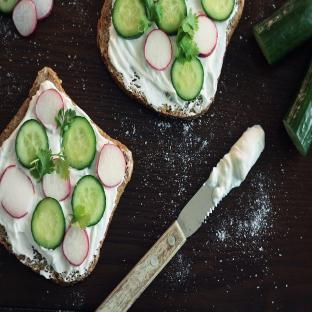Cucumber: (253, 0, 311, 64), (284, 61, 311, 155), (62, 117, 96, 169), (31, 198, 65, 249), (72, 176, 105, 226), (16, 120, 48, 168), (171, 58, 204, 101), (113, 0, 146, 38)
